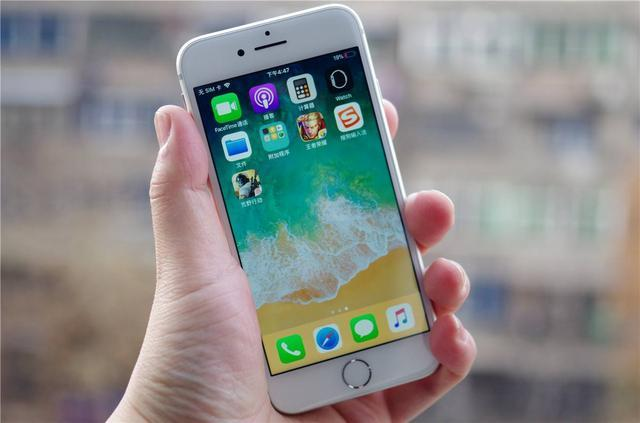phone: (180, 5, 445, 396)
